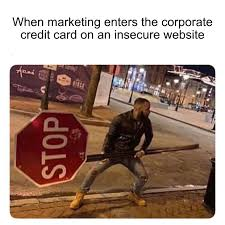SS: (15, 113, 87, 185)
